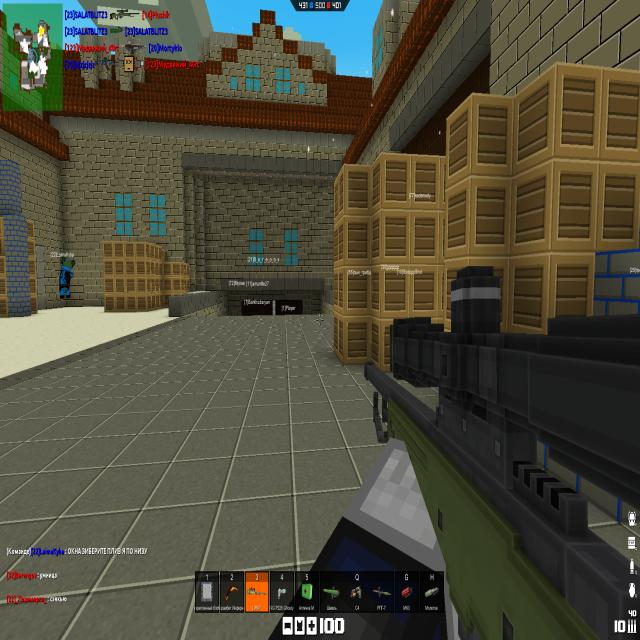player: (58, 255, 75, 300)
